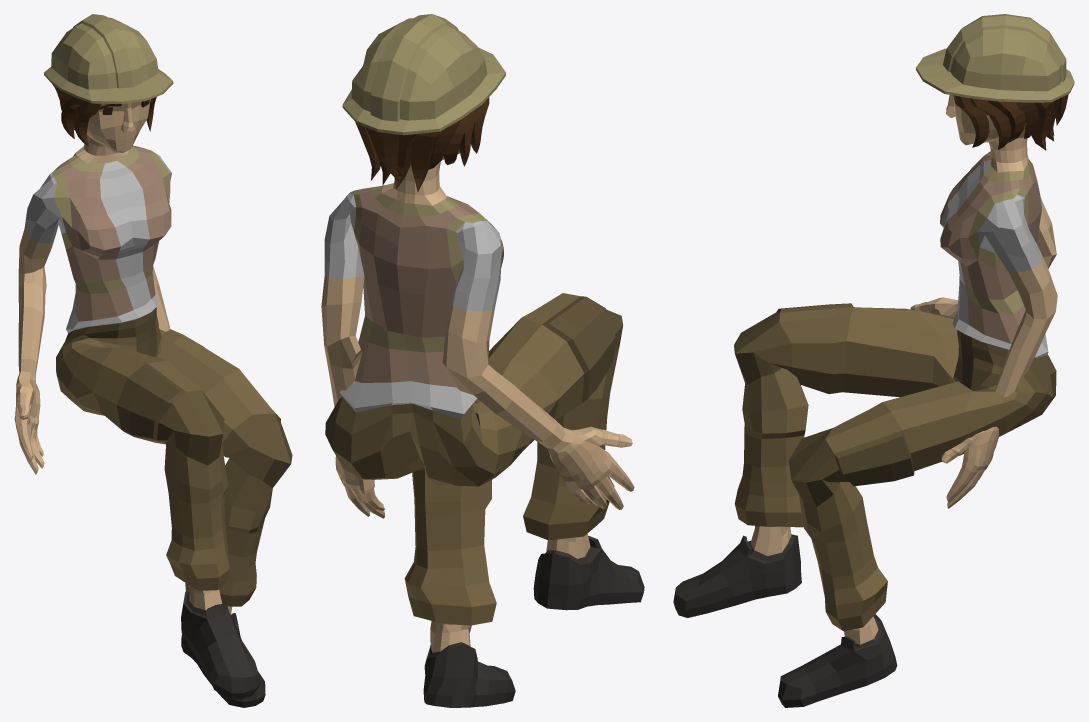
File: woman-worker.glb
3 views of the same model, side by side, from view 1: azimuth 30°, elevation 25°; view 2: azimuth 150°, elevation 25°; view 3: azimuth 270°, elevation 25° (orthographic). The views are drawn at different scales.
Parts seen in each view (by area): view 1: woman-worker; view 2: woman-worker; view 3: woman-worker.
Part boxes in pixels (x1,y1,x2,y2): woman-worker: (14,14,292,707); woman-worker: (321,14,644,707); woman-worker: (673,14,1074,707).
Size of the model in its own units: 0.5615 by 1.47 by 0.8034.
